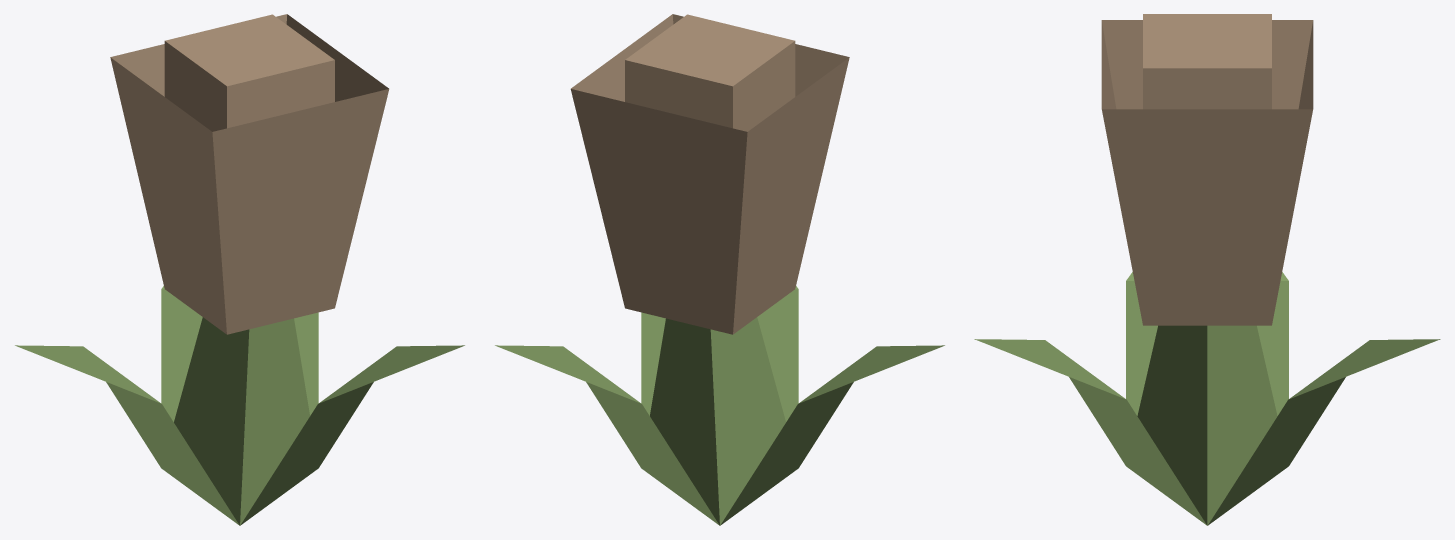
The model's file is K_Flowers.glb.
The picture shows the model from 3 angles, left to right: view 1: azimuth 30°, elevation 25°; view 2: azimuth 150°, elevation 25°; view 3: azimuth 270°, elevation 25°; orthographic projection. The views are drawn at different scales.
Visible parts, largest first — view 1: K_Flowers; view 2: K_Flowers; view 3: K_Flowers.
Boxes of the visible parts, box(x1,y1,x2,y2) form: K_Flowers: box(15, 14, 464, 525); K_Flowers: box(495, 14, 944, 525); K_Flowers: box(974, 14, 1440, 525).
Bounding box in the file's own units: 0.4773 × 0.5775 × 0.5432.
